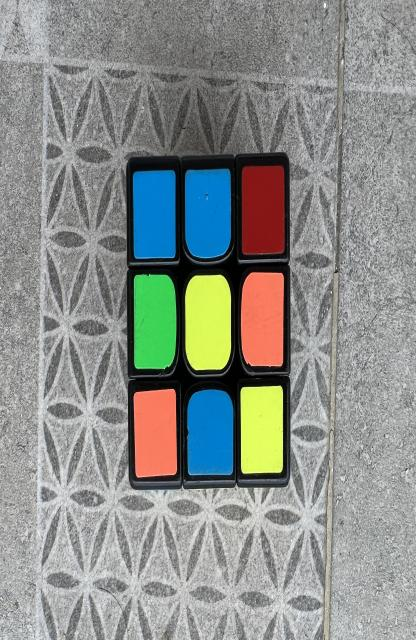Blue: (185, 168, 231, 258), (187, 390, 233, 475), (133, 170, 176, 258)
Green: (134, 275, 176, 368)
Orange: (240, 272, 284, 367), (133, 388, 177, 478)
Red: (242, 165, 284, 255)
Yellow: (185, 275, 232, 370), (240, 385, 283, 473)
